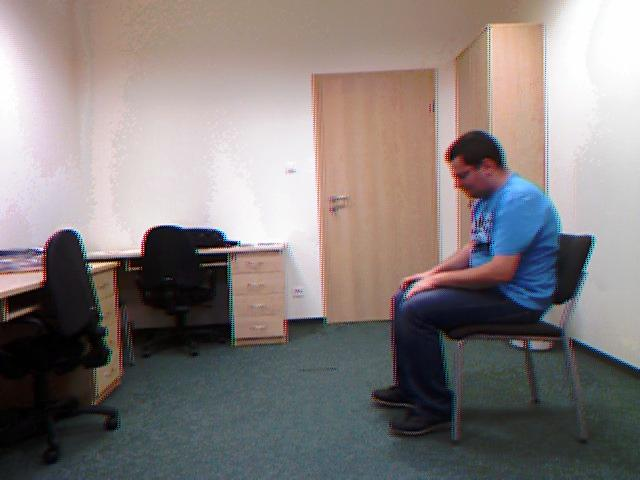sitting: (372, 130, 560, 436)
